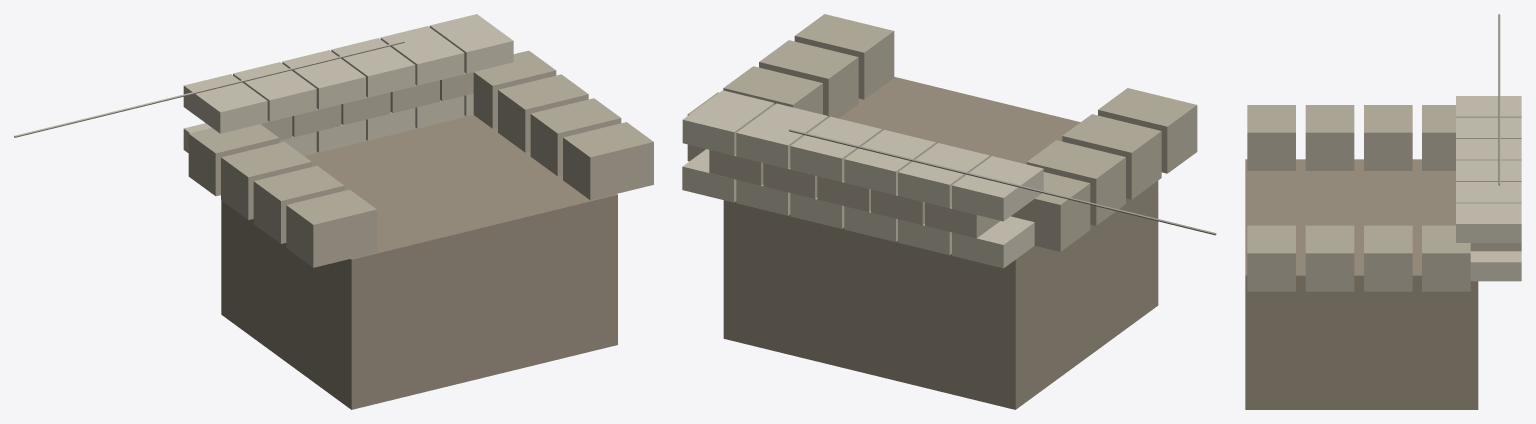
Rendered from trench-line-1917-listening-post-3d9fdd42__24093.glb.
3 renders of one model, left to right at view 1: azimuth 30°, elevation 25°; view 2: azimuth 150°, elevation 25°; view 3: azimuth 270°, elevation 25°, orthographic. The views are drawn at different scales.
Parts seen in each view (by area): view 1: listening-post; view 2: listening-post; view 3: listening-post.
Boxes of the visible parts, x1,y1,x2,y2 form: listening-post: (14,14,653,409); listening-post: (682,14,1216,409); listening-post: (1245,14,1521,409).
Size of the model in its own units: 4.86 by 2.03 by 2.61.
